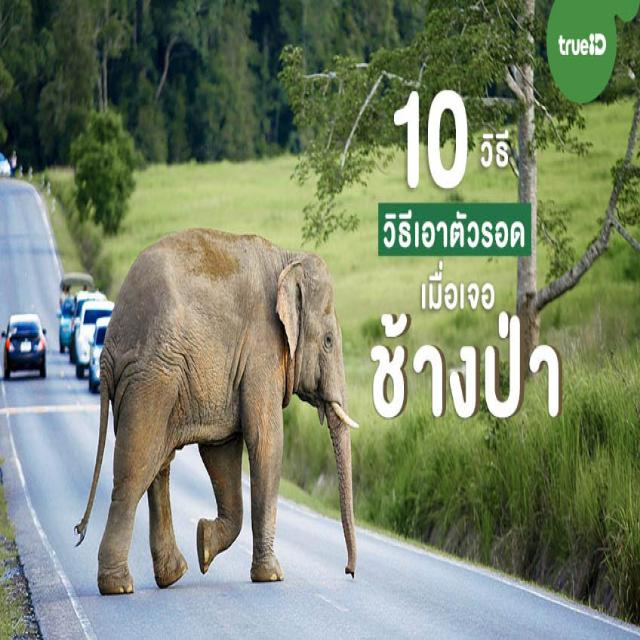Elephant: (70, 216, 363, 610)
